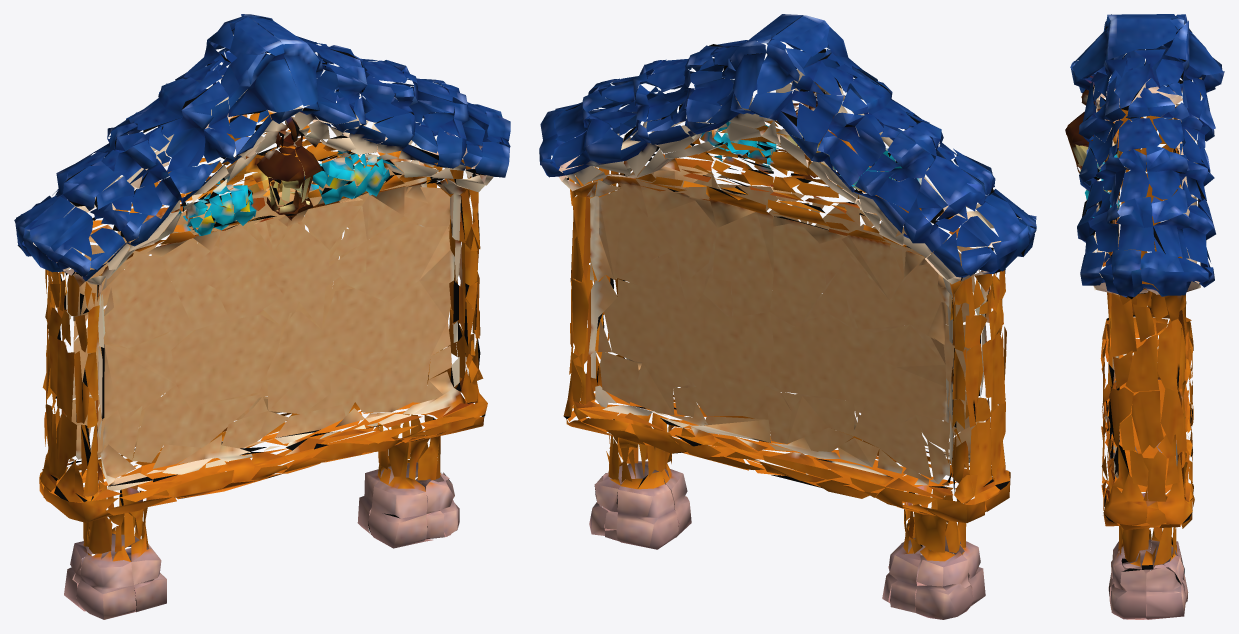
The model's file is community_board.glb.
3 renders of one model, left to right at view 1: azimuth 30°, elevation 25°; view 2: azimuth 150°, elevation 25°; view 3: azimuth 270°, elevation 25°, orthographic. The views are drawn at different scales.
Visible parts, largest first — view 1: Cozy board baked low; view 2: Cozy board baked low; view 3: Cozy board baked low.
Boxes of the visible parts, <box> form: Cozy board baked low: <box>14,14,510,619</box>; Cozy board baked low: <box>539,14,1036,619</box>; Cozy board baked low: <box>1065,14,1224,619</box>.
Bounding box in the file's own units: 1.78 × 1.91 × 0.5314.
Materials: 1 (1 with a texture image).
